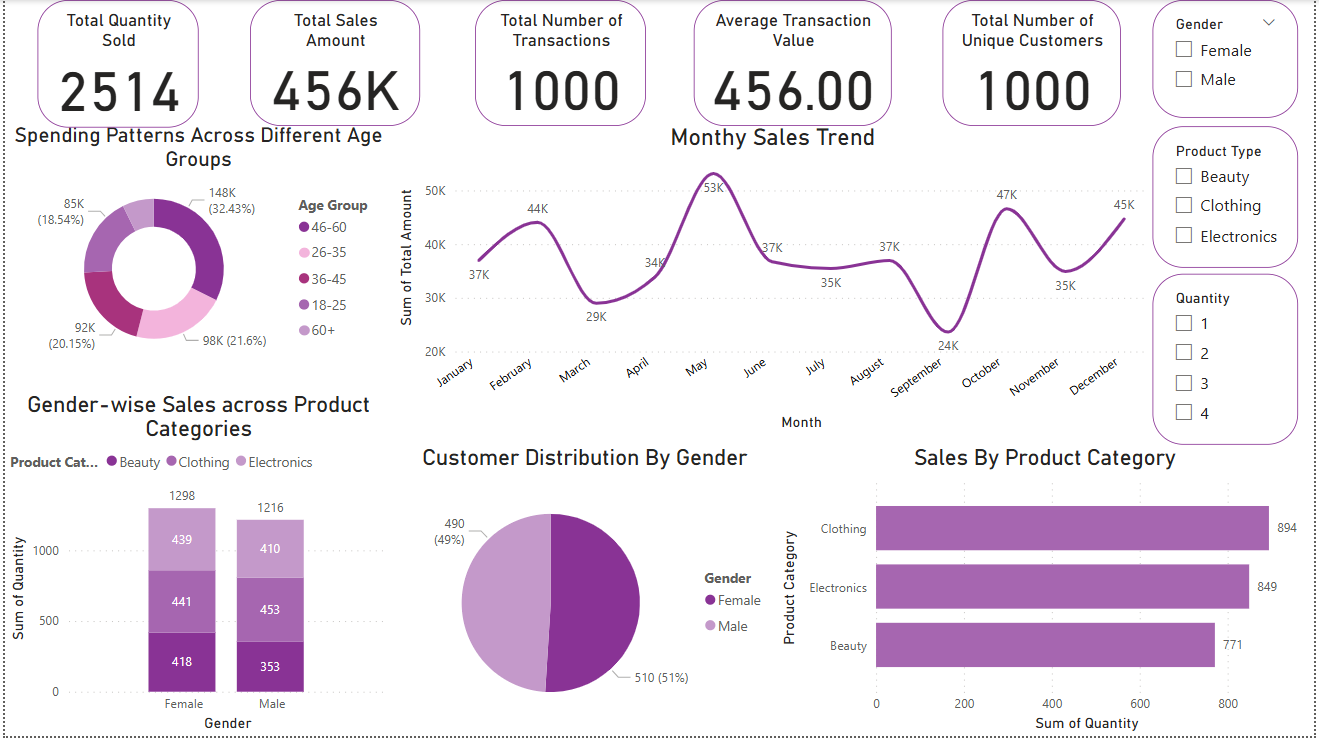

This screenshot's page, from the dashboard's own definition file:
{"tool":"powerbi","page":{"name":"Retail Sales Dataset Dashboard","canvas":[1280,720],"ordinal":0},"visuals":[{"type":"lineChart","title":"Monthy Sales Trend","fields":{"Category":["retail_sales_dataset.Date.Variation.Date Hierarchy.Month","retail_sales_dataset.Date.Variation.Date Hierarchy.Day"],"Y":["Sum(retail_sales_dataset.Total Amount)"]},"box":[378.7,119.4,743.7,306],"z":0},{"type":"clusteredBarChart","title":"Sales By Product Category","fields":{"Category":["retail_sales_dataset.Product Category"],"Y":["Sum(retail_sales_dataset.Quantity)"]},"box":[754.7,435,525.6,285.4],"z":1},{"type":"columnChart","title":"Gender-wise Sales across Product Categories","fields":{"Y":["Sum(retail_sales_dataset.Quantity)"],"Category":["retail_sales_dataset.Gender"],"Series":["retail_sales_dataset.Product Category"]},"box":[0,382.8,378.7,337.6],"z":2},{"type":"pieChart","title":"Customer Distribution By Gender","fields":{"Category":["retail_sales_dataset.Gender"],"Y":["CountNonNull(retail_sales_dataset.Customer ID)"]},"box":[378.7,435,376,285.4],"z":3},{"type":"donutChart","title":"Spending Patterns Across Different Age Groups","fields":{"Category":["retail_sales_dataset.Age Group"],"Y":["Sum(retail_sales_dataset.Total Amount)"]},"box":[0,119.4,378.7,240.1],"z":4},{"type":"slicer","fields":{"Values":["retail_sales_dataset.Product Category"]},"box":[1122.5,123.5,142.7,138.6],"z":5},{"type":"slicer","fields":{"Values":["retail_sales_dataset.Quantity"]},"box":[1122.5,267.6,142.7,167.4],"z":6},{"type":"slicer","fields":{"Values":["retail_sales_dataset.Gender"]},"box":[1122.5,0,142.7,115.3],"z":7},{"type":"card","title":"Total Sales Amount","fields":{"Values":["Sum(retail_sales_dataset.Total Amount)"]},"box":[240.1,0,166,123.5],"z":8},{"type":"card","title":"Total Number of Transactions","fields":{"Values":["CountNonNull(retail_sales_dataset.Transaction ID)"]},"box":[459.7,0,167.4,123.5],"z":9},{"type":"card","title":"Average Transaction Value","fields":{"Values":["Avg(retail_sales_dataset.Total Amount)"]},"box":[673.8,0,193.5,123.5],"z":10},{"type":"card","title":"Total Quantity Sold","fields":{"Values":["Sum(retail_sales_dataset.Quantity)"]},"box":[31.6,0,157.8,124.9],"z":11},{"type":"card","title":"Total Number of Unique Customers","fields":{"Values":["Count(retail_sales_dataset.Customer ID)"]},"box":[916.6,0,174.3,123.5],"z":12}]}

Visuals, with their boxes in screenshot pixels (x1, y1, x2, y2), scaled from the page's 1280x720 canvas onto the 1319x740 screenshot:
"Monthy Sales Trend" lineChart: (x1=390, y1=123, x2=1157, y2=437)
"Sales By Product Category" clusteredBarChart: (x1=778, y1=447, x2=1318, y2=739)
"Gender-wise Sales across Product Categories" columnChart: (x1=0, y1=393, x2=390, y2=739)
"Customer Distribution By Gender" pieChart: (x1=390, y1=447, x2=778, y2=739)
"Spending Patterns Across Different Age Groups" donutChart: (x1=0, y1=123, x2=390, y2=369)
slicer - retail_sales_dataset.Product Category: (x1=1157, y1=127, x2=1304, y2=269)
slicer - retail_sales_dataset.Quantity: (x1=1157, y1=275, x2=1304, y2=447)
slicer - retail_sales_dataset.Gender: (x1=1157, y1=0, x2=1304, y2=119)
"Total Sales Amount" card: (x1=247, y1=0, x2=418, y2=127)
"Total Number of Transactions" card: (x1=474, y1=0, x2=646, y2=127)
"Average Transaction Value" card: (x1=694, y1=0, x2=894, y2=127)
"Total Quantity Sold" card: (x1=33, y1=0, x2=195, y2=128)
"Total Number of Unique Customers" card: (x1=945, y1=0, x2=1124, y2=127)
